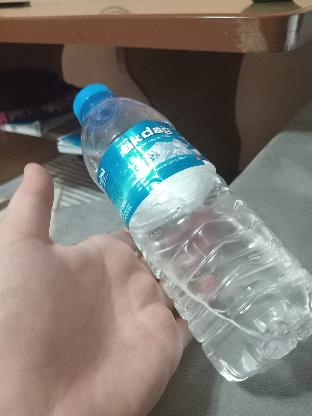Plastic Bottle: (64, 84, 312, 384)
